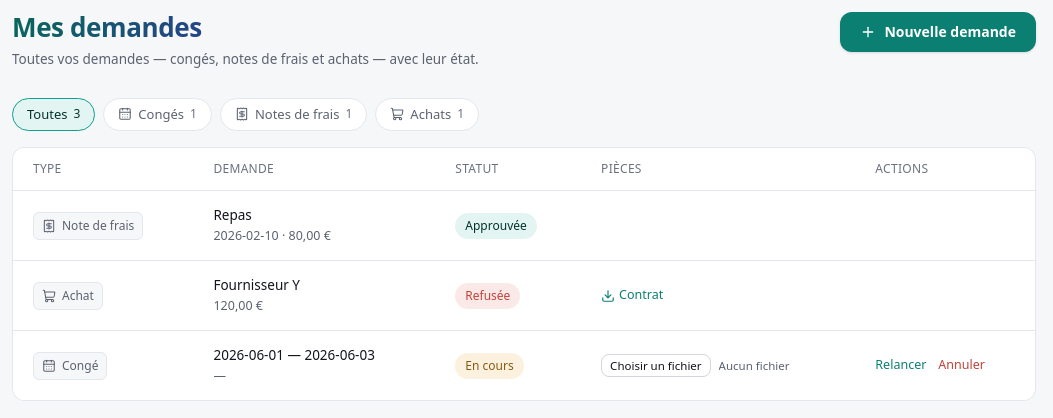
Test: MesDemandesPage — les trois types regroupés › les onglets affichent un compteur par type et filtrent la liste
Check: the text "Repas" is shown, box [213,206,252,224]
Check: the tab "Congés 1" is shown, box [103,98,212,131]
Click the tab "Achats 1" at (427, 114), box [375,98,479,131]
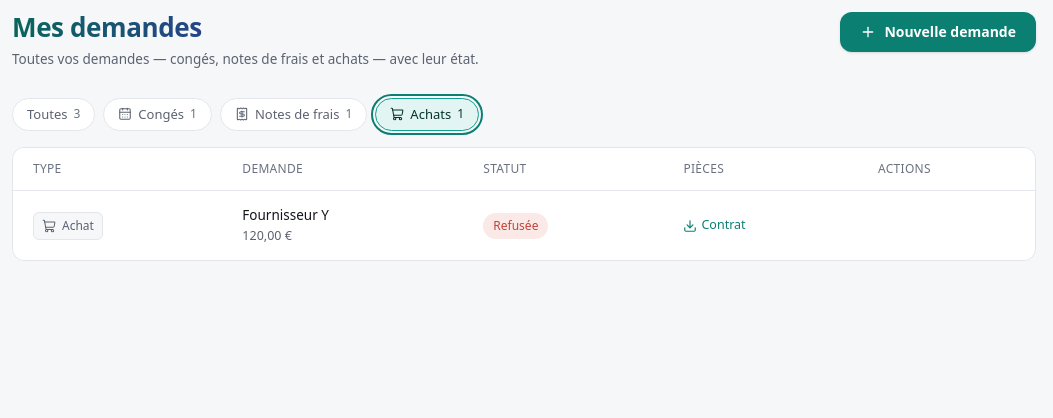
Check: the text "Fournisseur Y" is shown, box [242,206,329,224]
Check: the text "Repas" is gone
Check: the text "2026-06-01 — 2026-06-03" is gone
Click the tab "Toutes 3" at (54, 114), box [12,98,95,131]
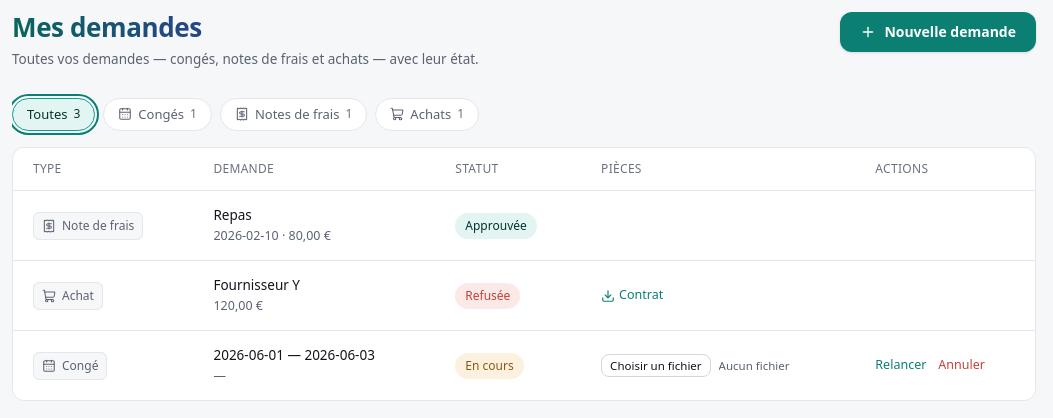
Check: the text "Repas" is shown, box [213,206,252,224]
